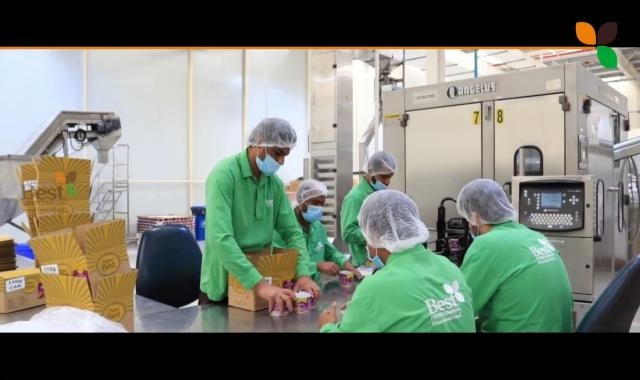hairnet: (359, 187, 428, 251), (453, 178, 516, 228), (247, 116, 295, 158), (293, 179, 327, 215), (363, 151, 397, 182)
